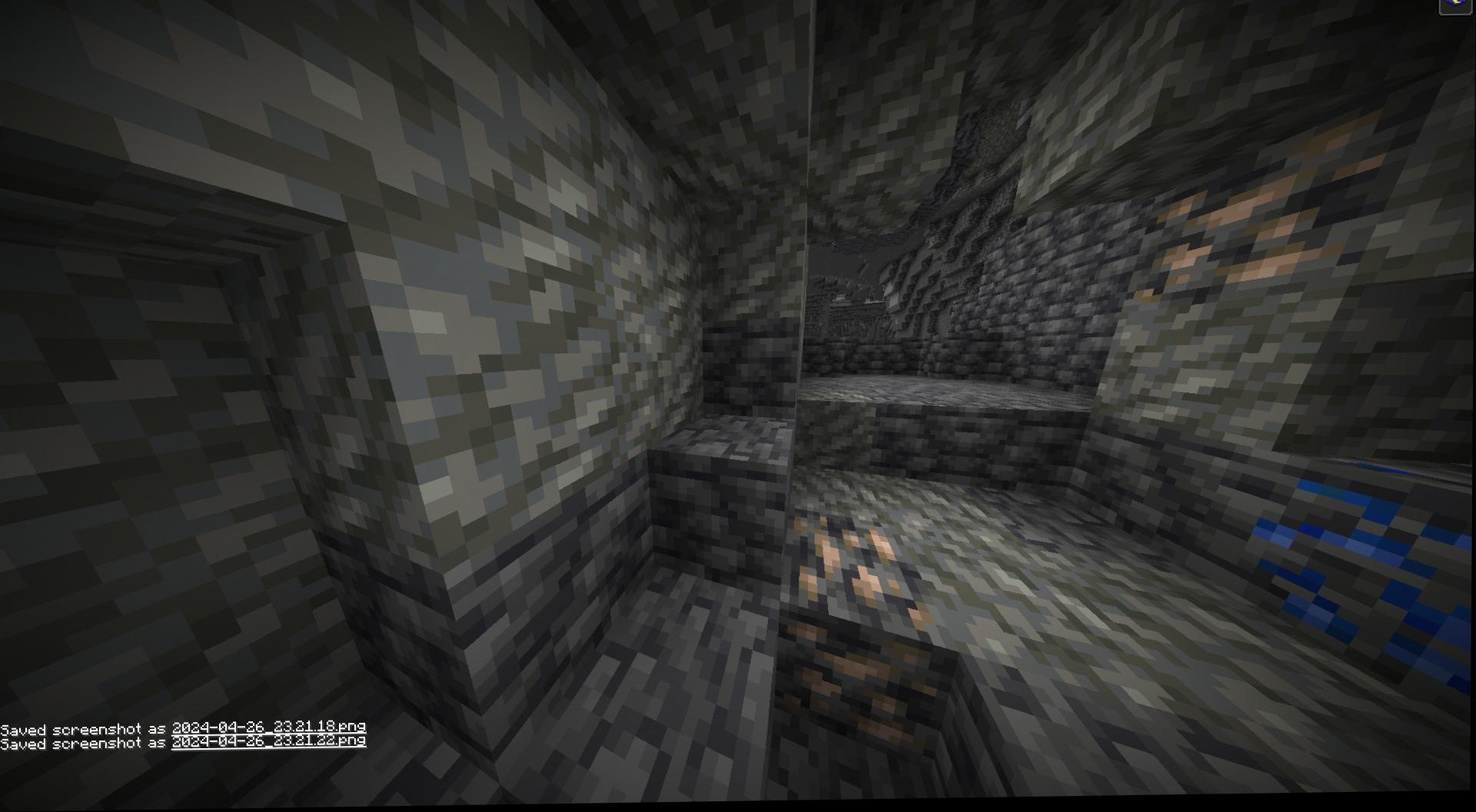iron ore: (1139, 126, 1340, 292), (781, 622, 935, 749), (788, 509, 921, 628)
